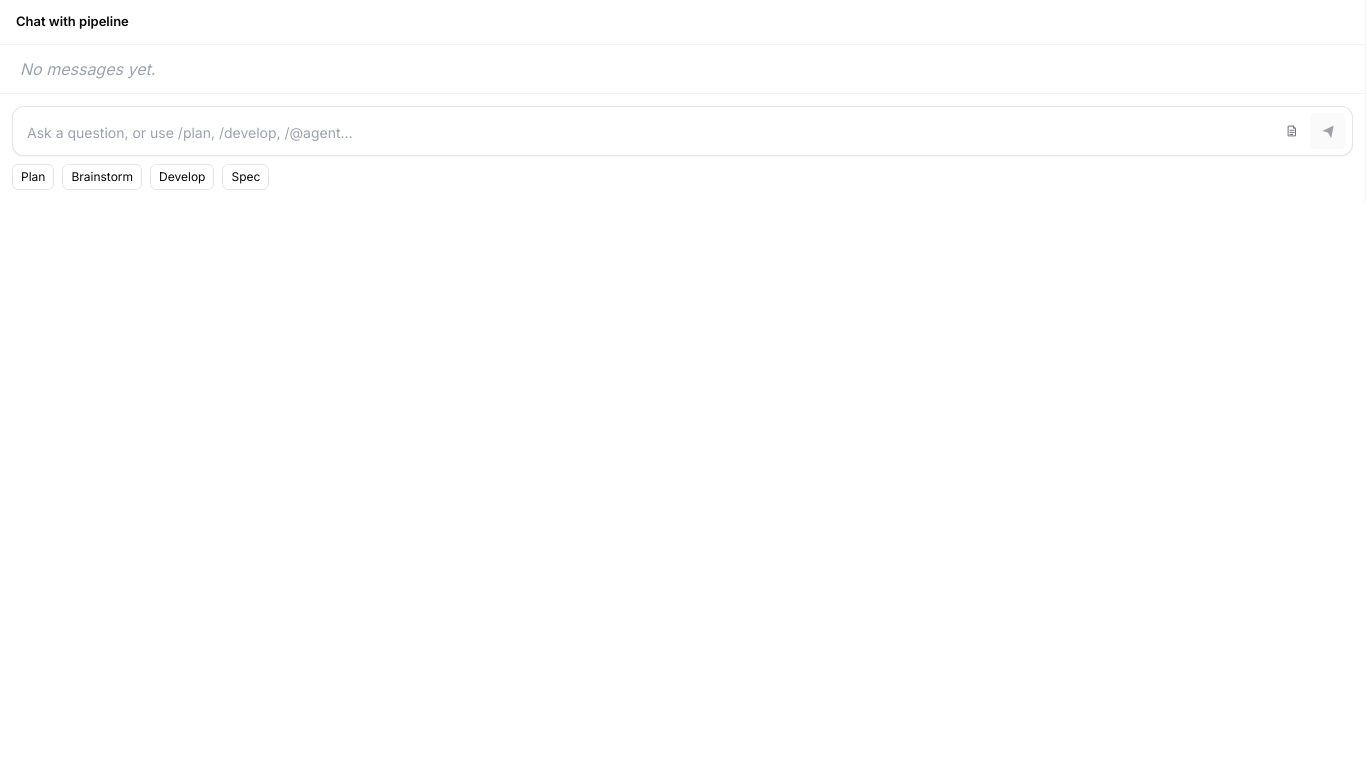
ChatColumn › W.9.4 — New-spec affordance in ChatColumn › SpecDialog closes after successful submit
Click the button with test id "chat-composer-new-spec": (1292,130) 1278,116 -> 1306,144
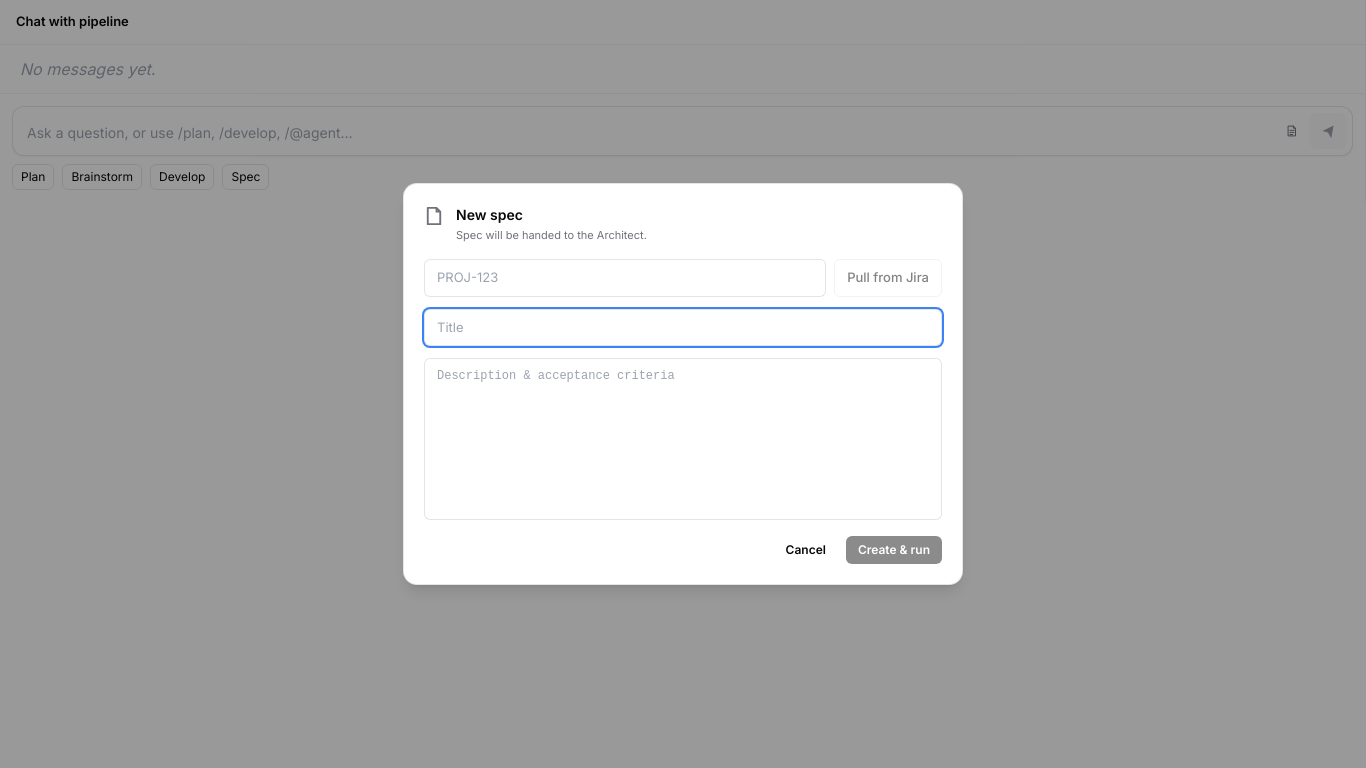
In the field with test id "spec-dialog-title-input": (683,328) 424,309 -> 942,346, type "My spec"
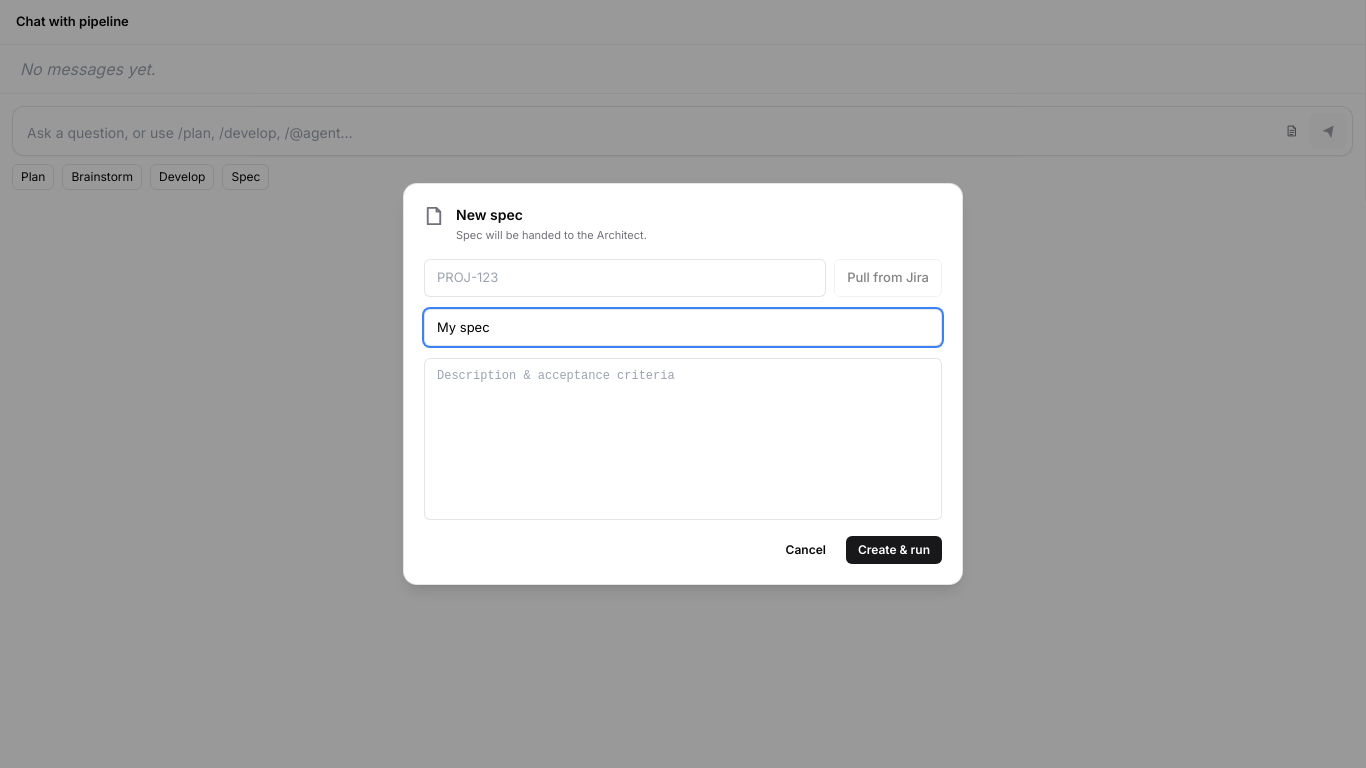
Click the button with test id "spec-dialog-submit": (894,550) 846,536 -> 942,564
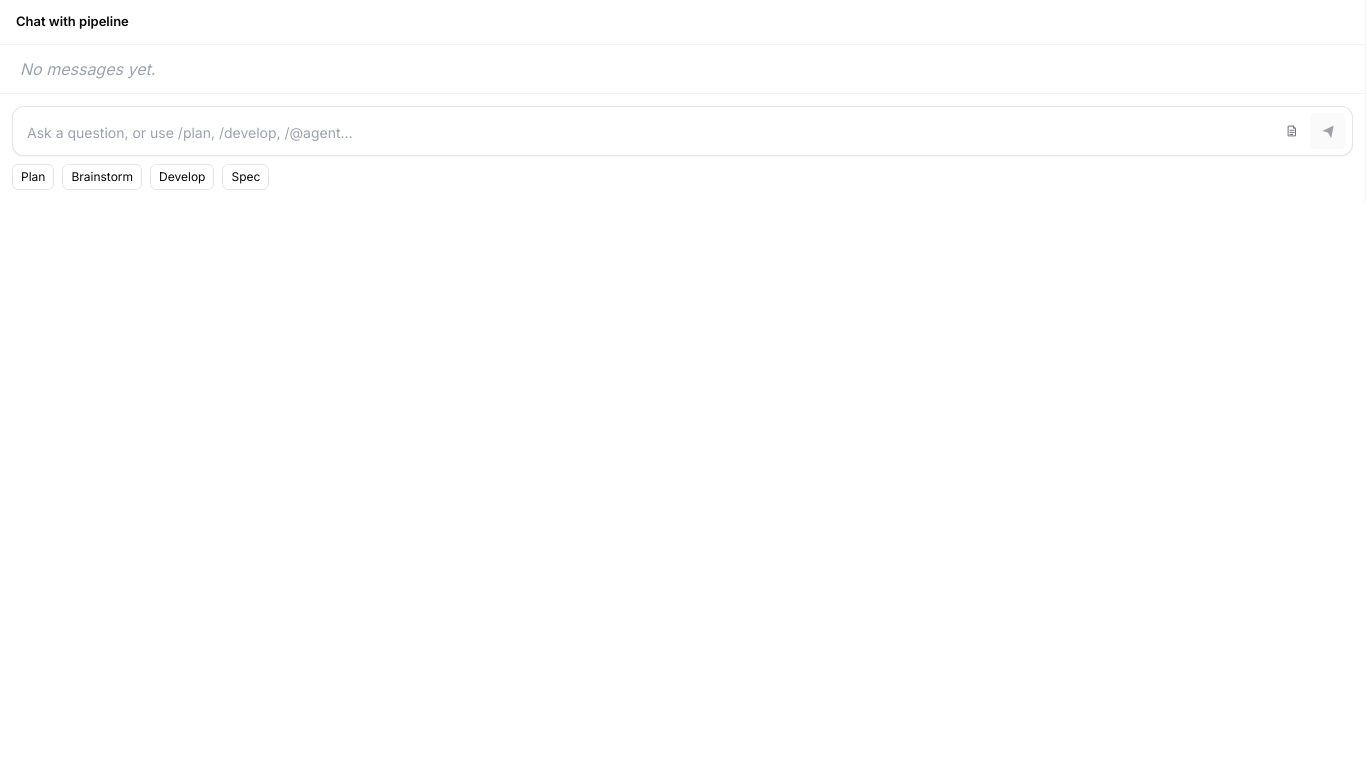
Expected: the dialog with test id "spec-dialog" is gone
